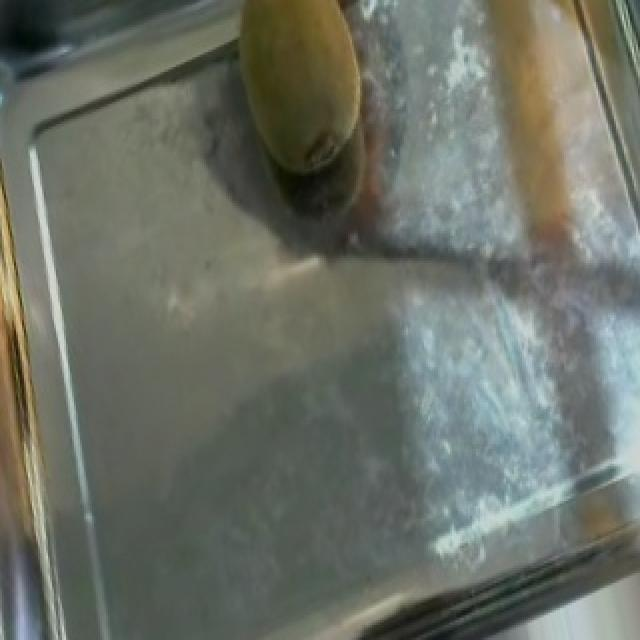Fruit: (454, 0, 636, 283), (202, 0, 394, 203)
